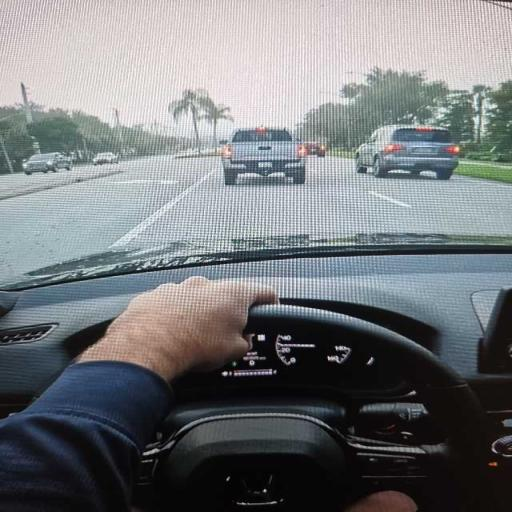car: (356, 125, 459, 179), (221, 127, 307, 184), (23, 153, 72, 175), (305, 142, 327, 157), (93, 152, 118, 165)
lane: (128, 158, 511, 247), (0, 156, 212, 280)
person: (0, 277, 276, 511)
